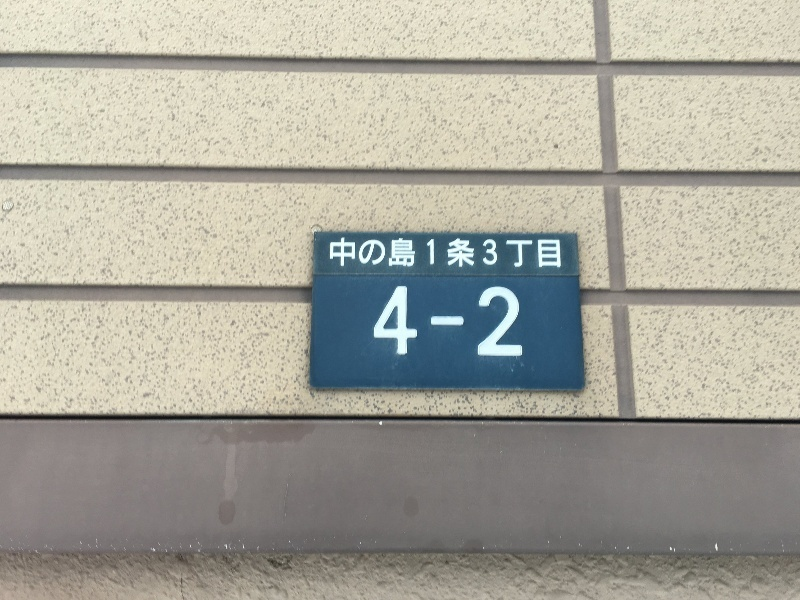text: (385, 285, 400, 357), (401, 285, 416, 357), (417, 285, 432, 357), (433, 285, 448, 357), (449, 285, 464, 357), (465, 285, 480, 357), (481, 285, 496, 357), (497, 285, 512, 357), (371, 285, 384, 357), (513, 285, 524, 357), (545, 237, 561, 269), (337, 237, 352, 269), (353, 237, 368, 269), (369, 237, 384, 269), (385, 237, 400, 269), (401, 237, 416, 269), (417, 237, 432, 269), (433, 237, 448, 269), (449, 237, 464, 269), (465, 237, 480, 269), (481, 237, 496, 269), (497, 237, 512, 269), (513, 237, 528, 269), (529, 237, 544, 269), (329, 237, 336, 269)
